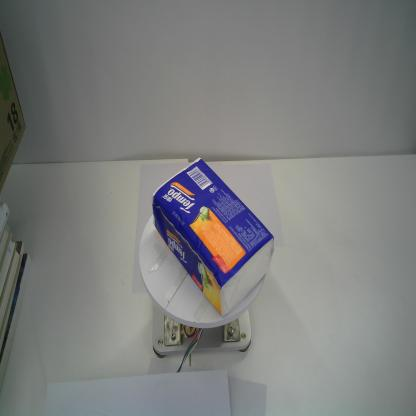Tissue: (150, 154, 276, 320)
